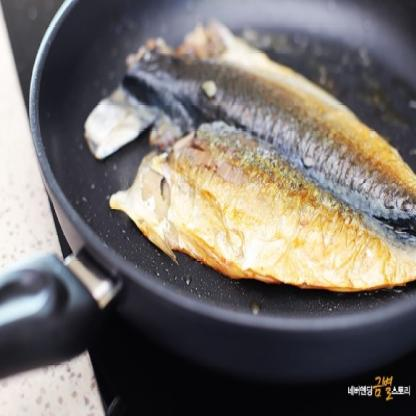Peixe: (82, 16, 416, 312)
